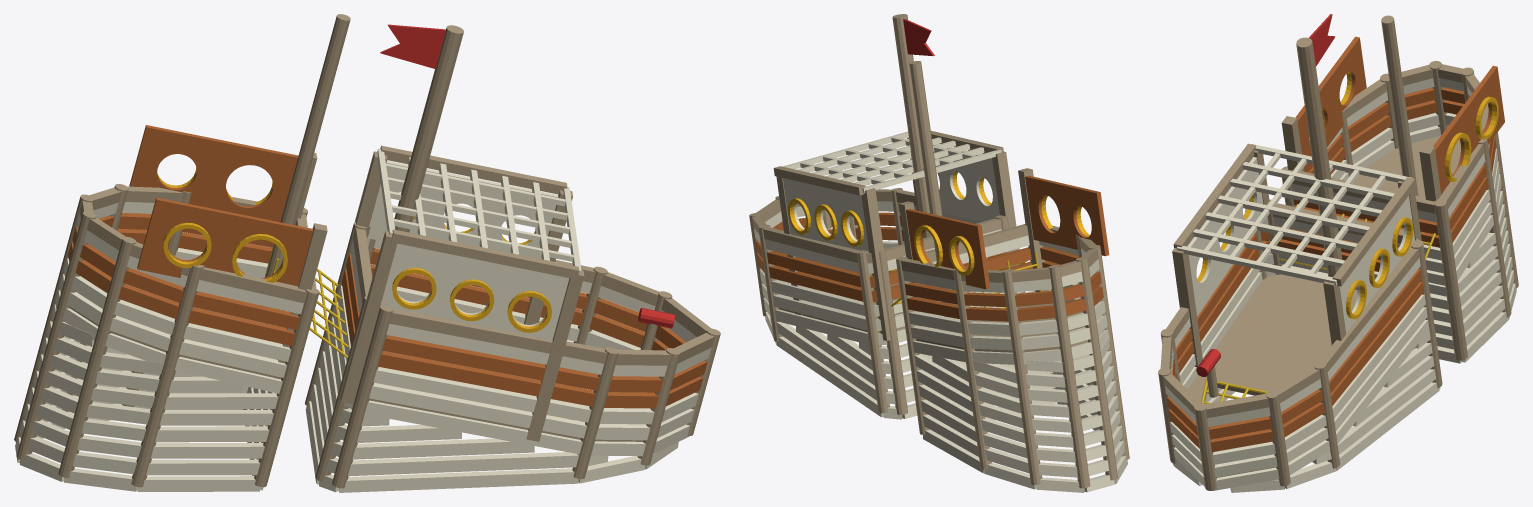
File: fairwinds-park-ship-study.glb
The picture shows the model from 3 angles, left to right: view 1: azimuth 30°, elevation 25°; view 2: azimuth 150°, elevation 25°; view 3: azimuth 270°, elevation 25°; orthographic projection. The views are drawn at different scales.
Visible parts, largest first — view 1: HMCS Pinnacle · white, HMCS Pinnacle · weathered, HMCS Pinnacle · orange, HMCS Pinnacle · gold, HMCS Pinnacle · flag, HMCS Pinnacle · rope; view 2: HMCS Pinnacle · white, HMCS Pinnacle · weathered, HMCS Pinnacle · orange, HMCS Pinnacle · gold, HMCS Pinnacle · flag; view 3: HMCS Pinnacle · white, HMCS Pinnacle · weathered, HMCS Pinnacle · orange, HMCS Pinnacle · gold, HMCS Pinnacle · flag, HMCS Pinnacle · rope.
Part boxes in pixels (<box>): HMCS Pinnacle · white: <box>15,149,711,492</box>; HMCS Pinnacle · weathered: <box>14,14,720,488</box>; HMCS Pinnacle · orange: <box>68,125,707,408</box>; HMCS Pinnacle · gold: <box>157,167,551,332</box>; HMCS Pinnacle · flag: <box>380,24,674,328</box>; HMCS Pinnacle · rope: <box>265,244,596,420</box>; HMCS Pinnacle · white: <box>754,131,1127,492</box>; HMCS Pinnacle · weathered: <box>749,14,1129,488</box>; HMCS Pinnacle · orange: <box>755,175,1109,321</box>; HMCS Pinnacle · gold: <box>788,171,1089,275</box>; HMCS Pinnacle · flag: <box>903,19,934,55</box>; HMCS Pinnacle · white: <box>1165,78,1516,492</box>; HMCS Pinnacle · weathered: <box>1158,15,1518,490</box>; HMCS Pinnacle · orange: <box>1166,36,1504,452</box>; HMCS Pinnacle · gold: <box>1197,71,1498,319</box>; HMCS Pinnacle · flag: <box>1196,14,1335,376</box>; HMCS Pinnacle · rope: <box>1201,204,1435,403</box>.
Size of the model in its own units: 8.41 by 6.09 by 5.27.
